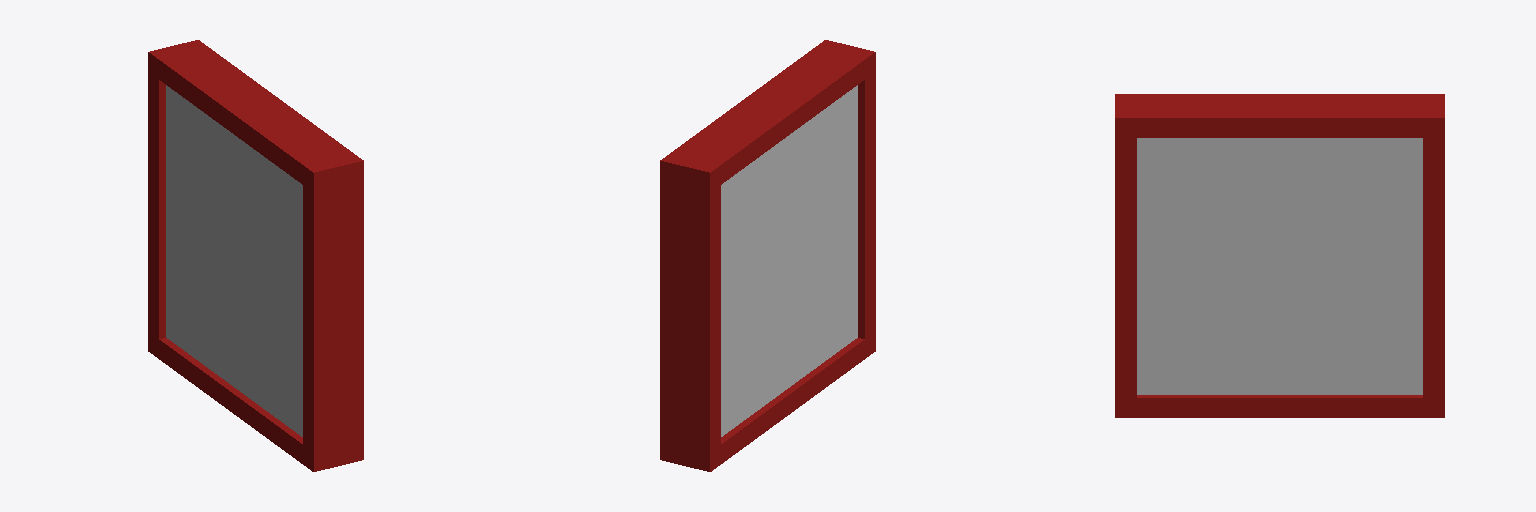
Rendered from Mdl_ShoveWall.obj.
3 views of the same model, side by side, from view 1: azimuth 30°, elevation 25°; view 2: azimuth 150°, elevation 25°; view 3: azimuth 270°, elevation 25° (orthographic).
Visible parts, largest first — view 1: Cube; view 2: Cube; view 3: Cube.
Boxes of the visible parts, x1=… form: Cube: x1=148, y1=40, x2=363, y2=471; Cube: x1=660, y1=40, x2=875, y2=471; Cube: x1=1115, y1=94, x2=1444, y2=417.
Size of the model in its own units: 1.4 by 8 by 8.